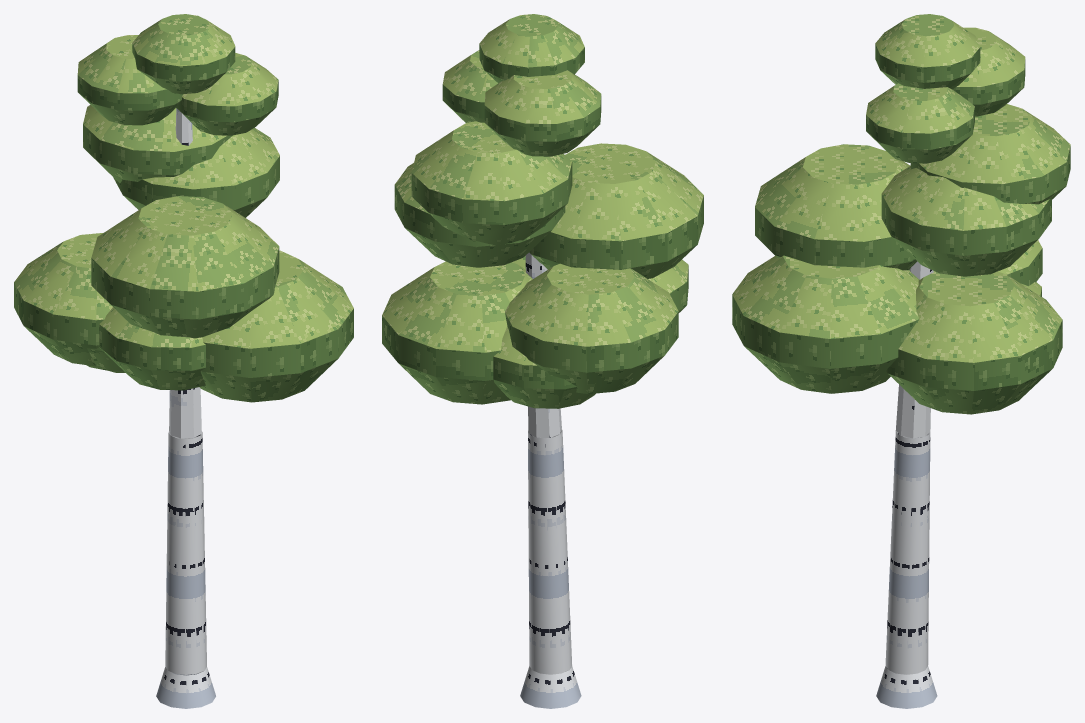
The model's file is birch_3.glb.
3 views of the same model, side by side, from view 1: azimuth 30°, elevation 25°; view 2: azimuth 150°, elevation 25°; view 3: azimuth 270°, elevation 25° (orthographic). The views are drawn at different scales.
Parts seen in each view (by area): view 1: birch_4; view 2: birch_4; view 3: birch_4.
Part boxes in pixels (bbox=[...]): birch_4: bbox=[14, 14, 353, 708]; birch_4: bbox=[382, 14, 703, 708]; birch_4: bbox=[732, 14, 1070, 708].
Bounding box in the file's own units: 2.3 × 5.59 × 2.54.
Materials: 3 (3 with a texture image).
